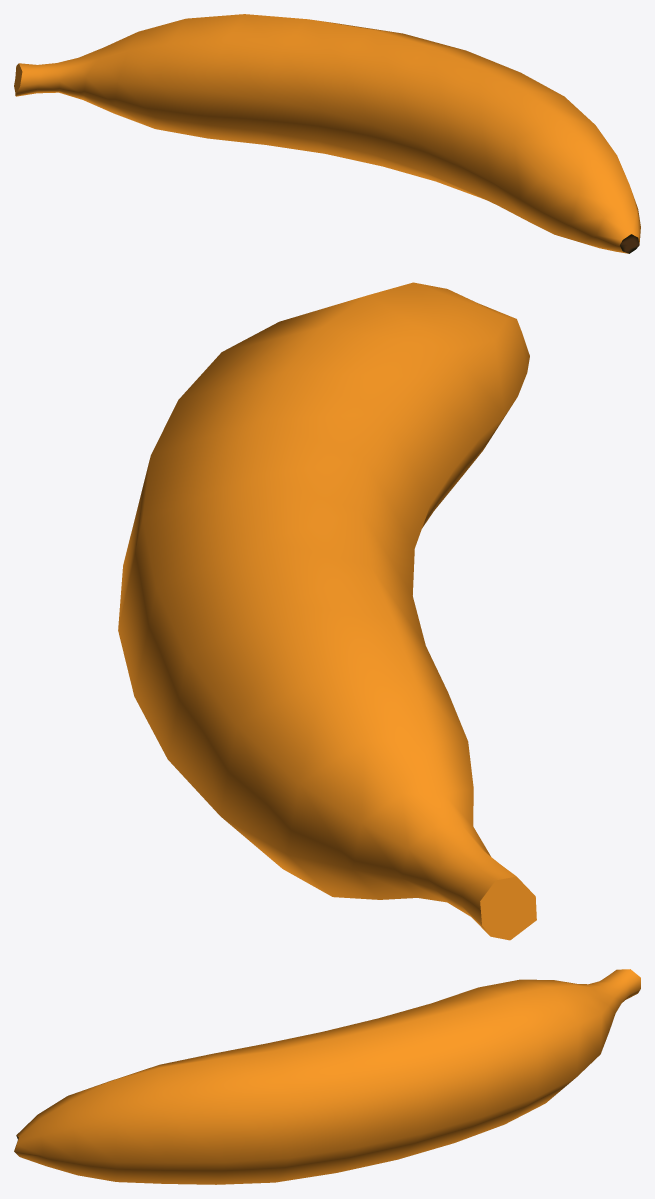
Rendered from prop_banana.FBX.
3 renders of one model, top to bottom at view 1: azimuth 30°, elevation 25°; view 2: azimuth 150°, elevation 25°; view 3: azimuth 270°, elevation 25°, orthographic. The views are drawn at different scales.
Visible parts, largest first — view 1: prop_banana; view 2: prop_banana; view 3: prop_banana.
Boxes of the visible parts, x1=… form: prop_banana: x1=14, y1=14, x2=640, y2=253; prop_banana: x1=118, y1=282, x2=536, y2=940; prop_banana: x1=14, y1=969, x2=640, y2=1184.
Size of the model in its own units: 10.06 by 14.9 by 3.22.
Materials: 1 (1 with a texture image).
